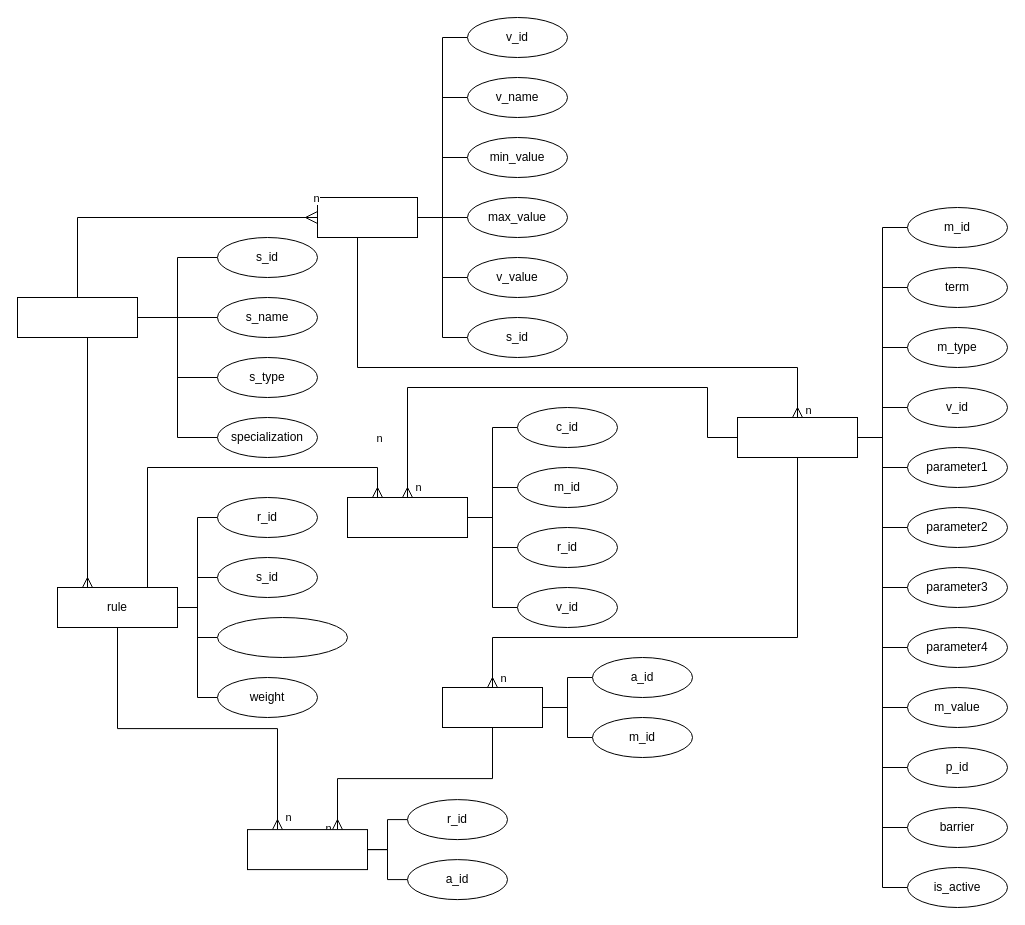
Image size: 1025x925. Some labels were removed from this diagram. The centre of each missing label's shape, as x and y in pixels:
antecedent: the point at 492,707
antecedent_connection: the point at 282,637
consequent: the point at 407,517
membership_function: the point at 797,437
rule_antecedents: the point at 307,849
system: the point at 77,317
variable: the point at 367,217
